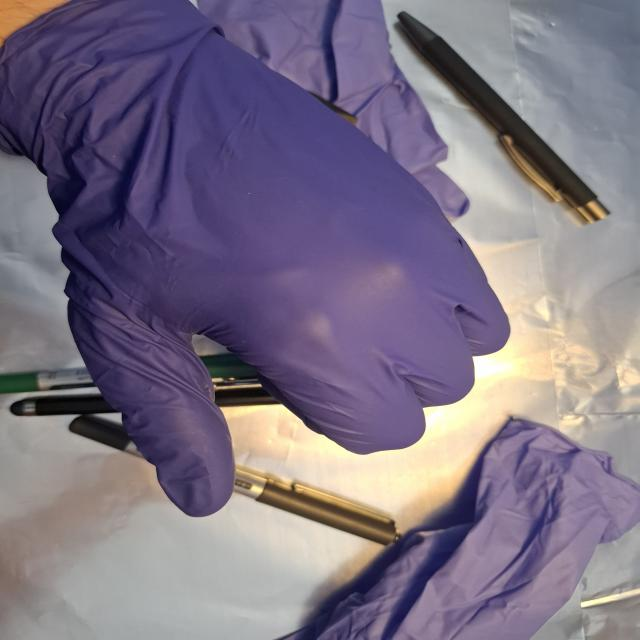glove_on: (0, 0, 515, 522)
